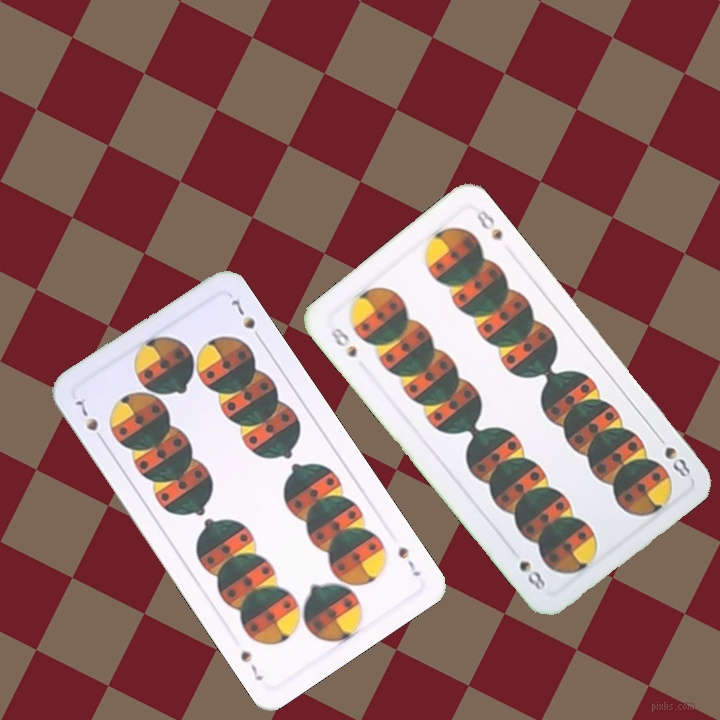S7: (71, 396, 108, 446), (394, 542, 424, 579)
S8: (323, 322, 360, 360), (660, 442, 693, 481)
